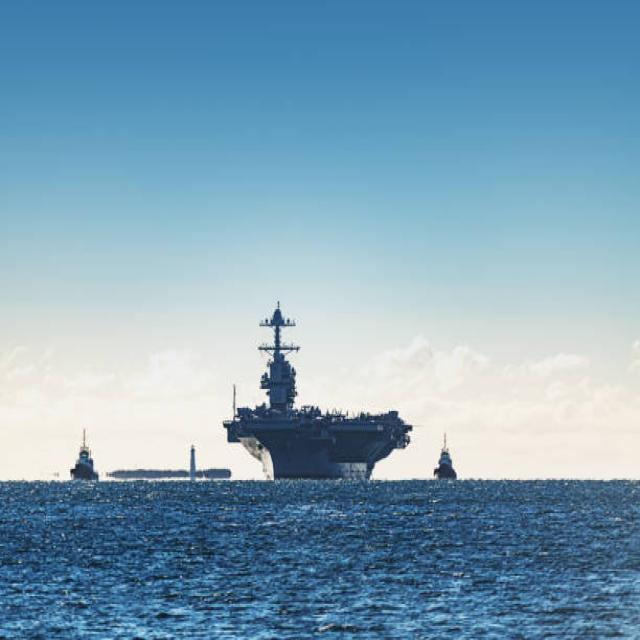Military: (222, 301, 413, 482), (71, 430, 98, 480), (434, 438, 456, 478)
